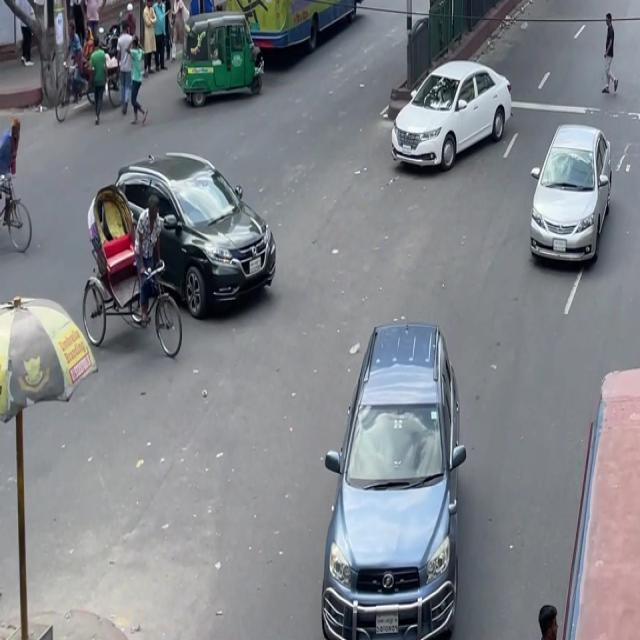bus: (227, 0, 374, 54)
car: (308, 296, 489, 636), (87, 136, 283, 326), (386, 46, 518, 180), (522, 115, 617, 282)
rickshaw: (175, 0, 266, 116)
